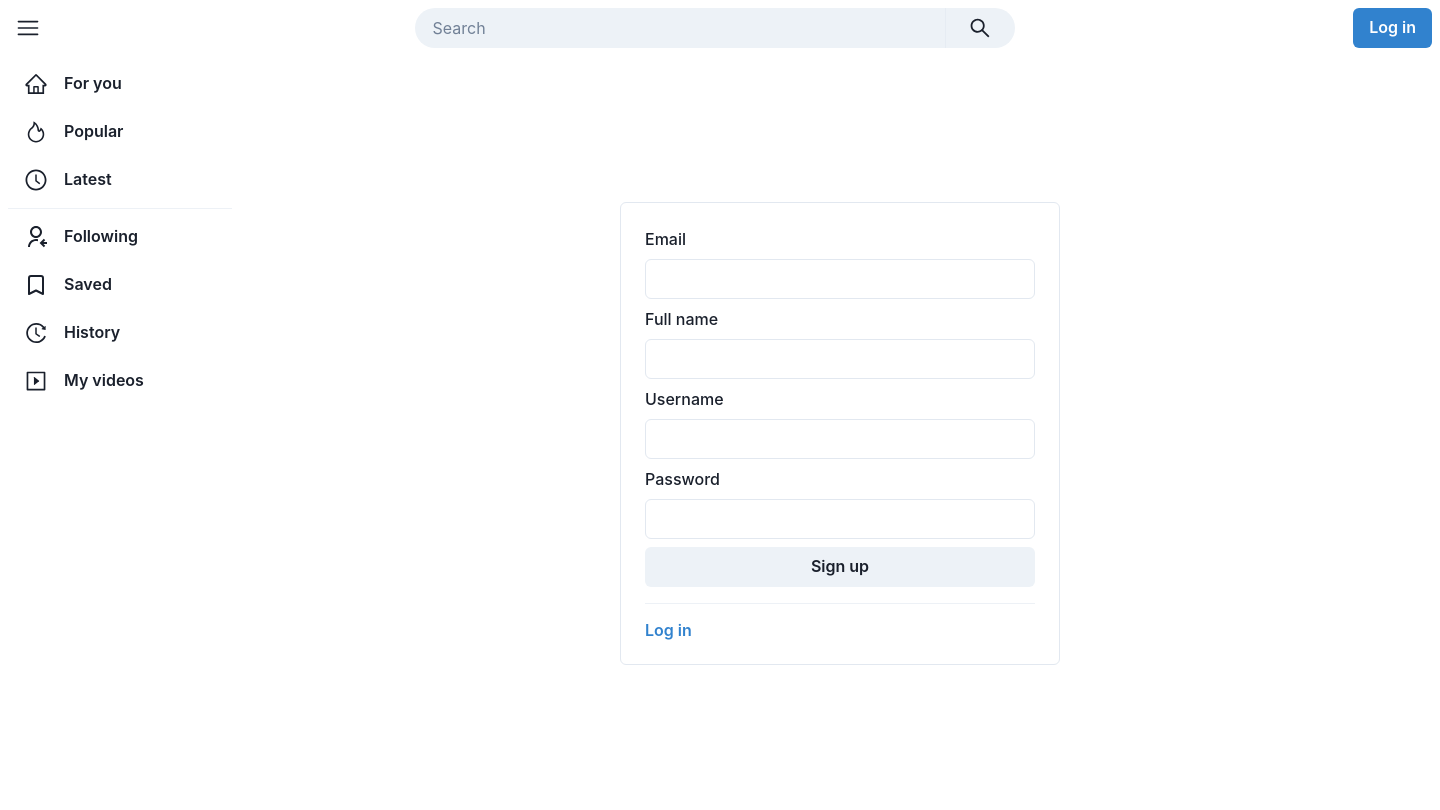
Test: SignupPage › signup form › username input › should show error message on submit if value is shorter than 3 chars
This screenshot has width=1440, height=810.
Type "at" into the field labelled "Username" at (840, 438), box [645,418,1035,458]
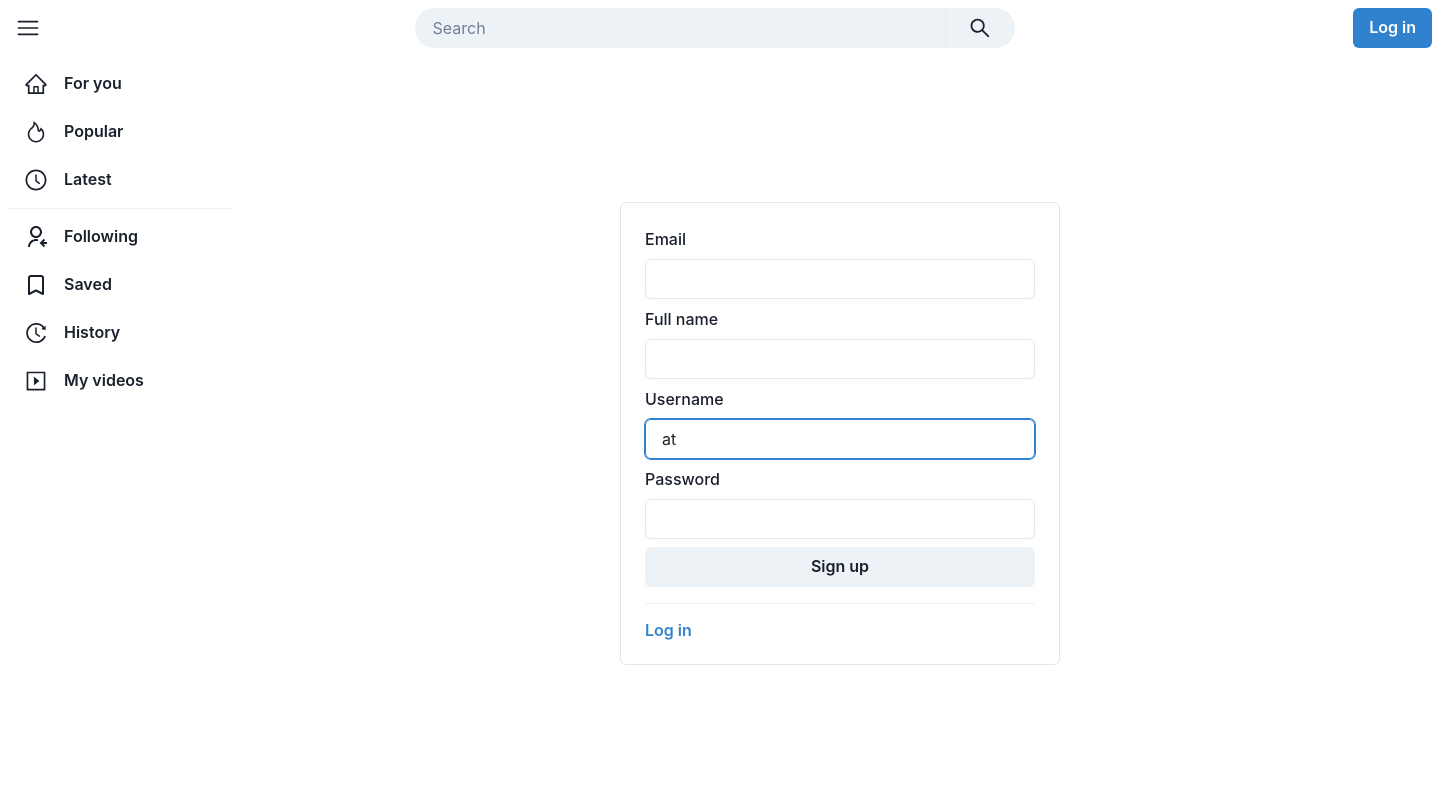
Click the button "Sign up" at (840, 566), box [645,546,1035,586]
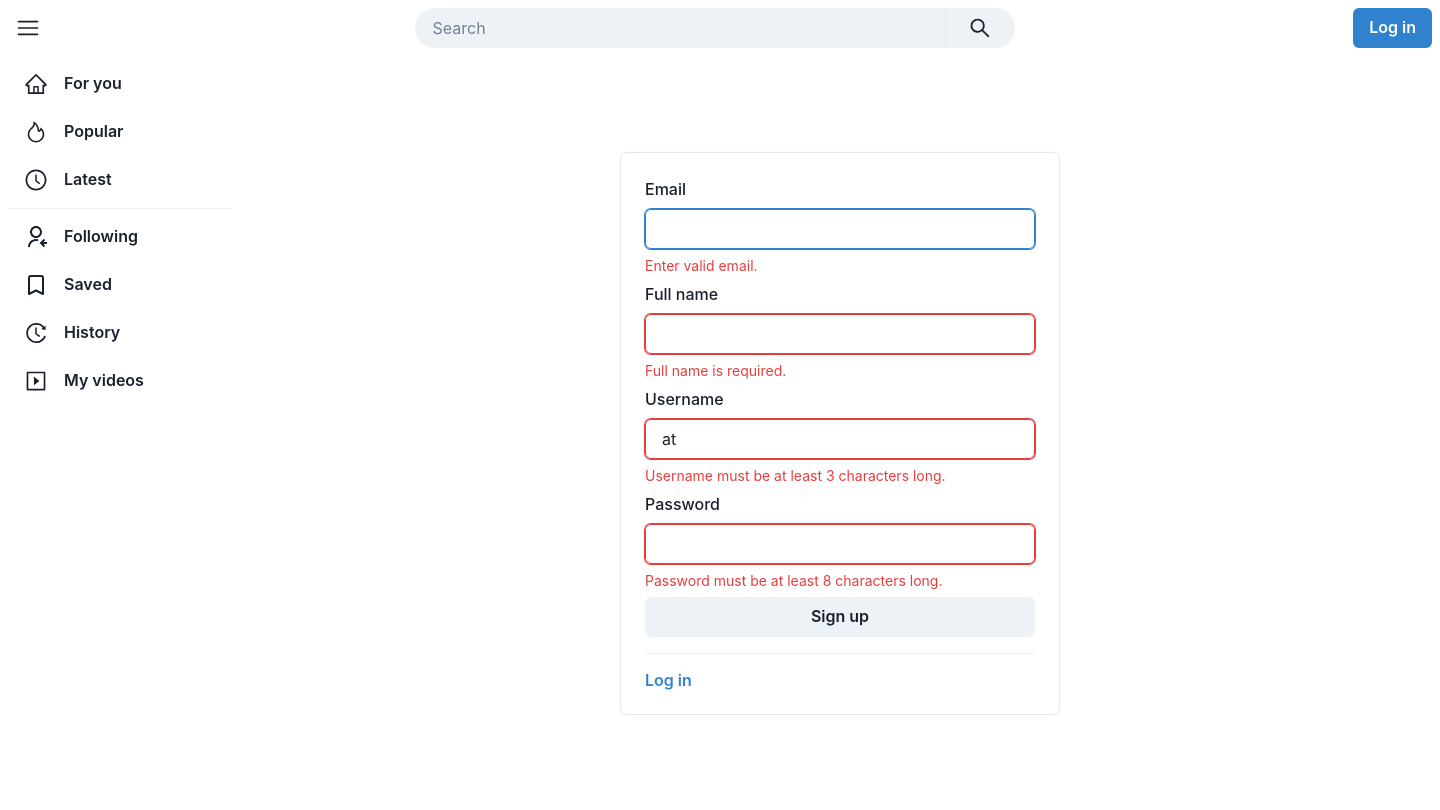
Now the message "Username must be at least 3 characters long." is shown, box [645,466,946,484]
